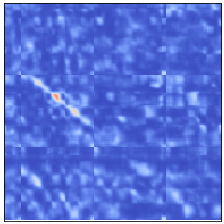action_path: (18, 75, 92, 149)
